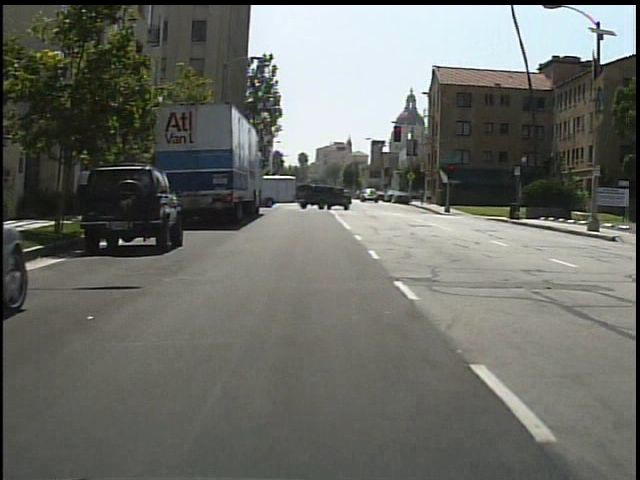person: (76, 163, 97, 193), (418, 188, 427, 209)
